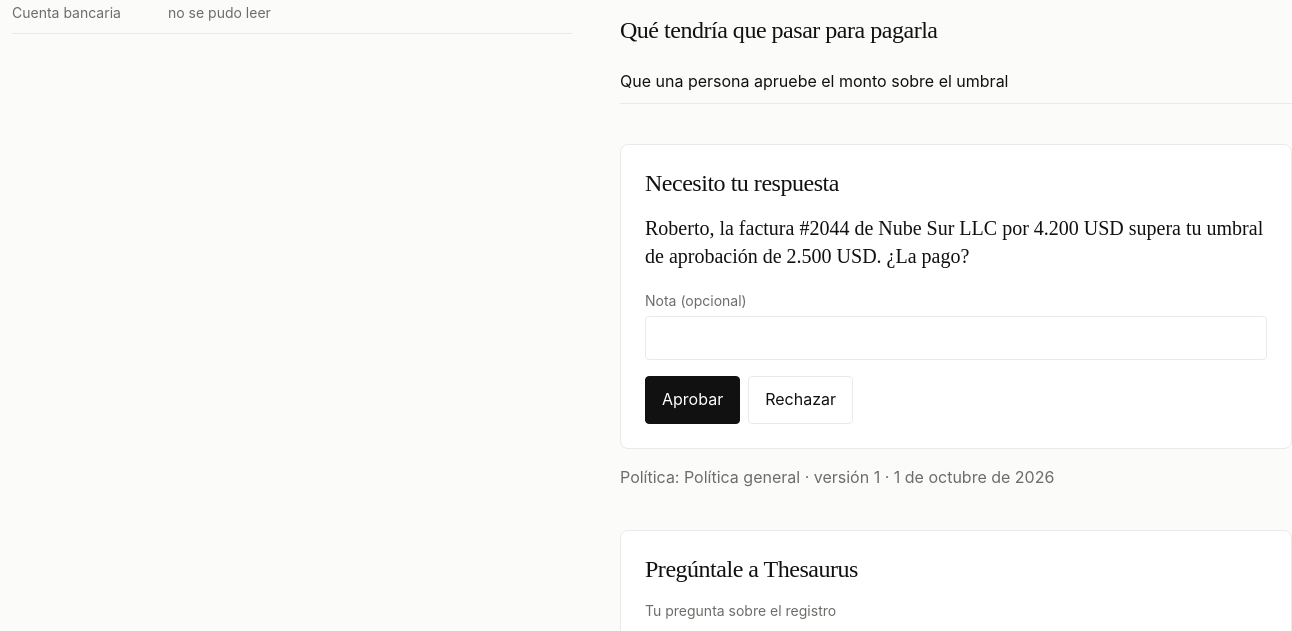
Test: a 409 changed shows the dashboard text (not the link page's «ábrelo de nuevo») and reloads the detail (R-55, R-136)
(page scrolled)
Click the button "Aprobar": (693, 400) [645, 376, 740, 424]
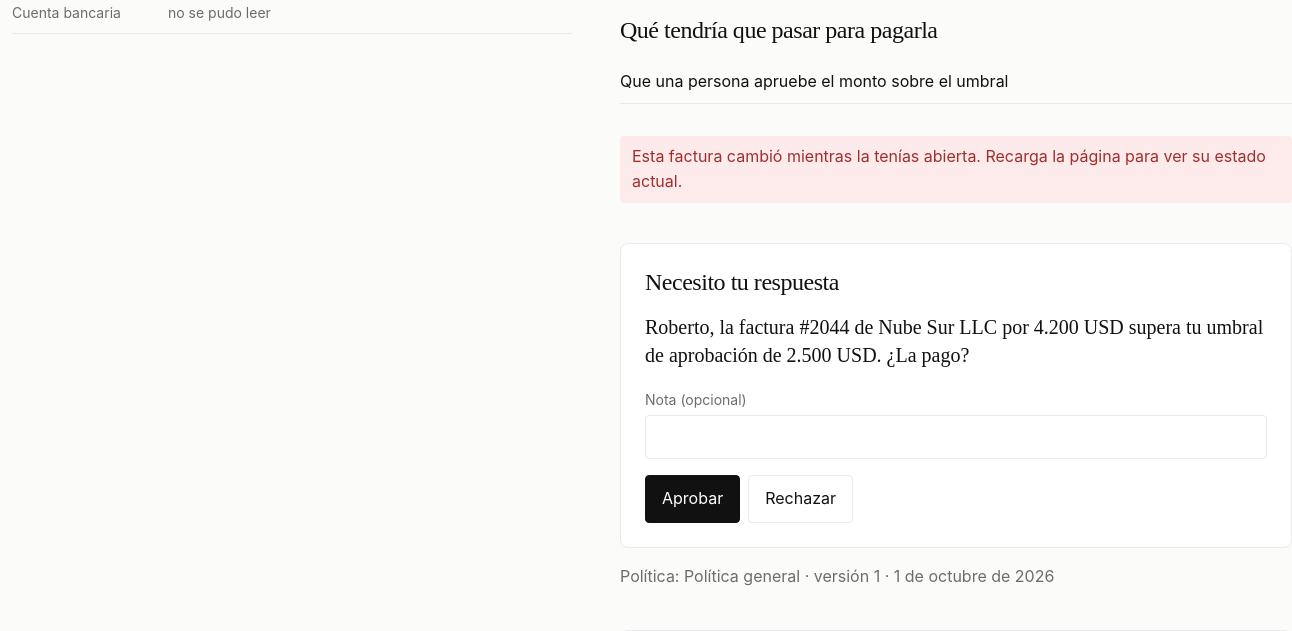
Expected: the text "Esta factura cambió mientras la tenías abierta. Recarga la página para ver su estado actual." is shown, [632, 146, 1266, 191]
